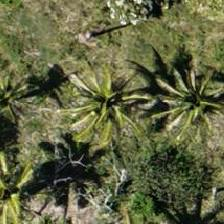Kelapa_Sawit: (53, 59, 143, 149), (157, 60, 223, 151), (0, 50, 57, 140), (0, 149, 51, 223)
